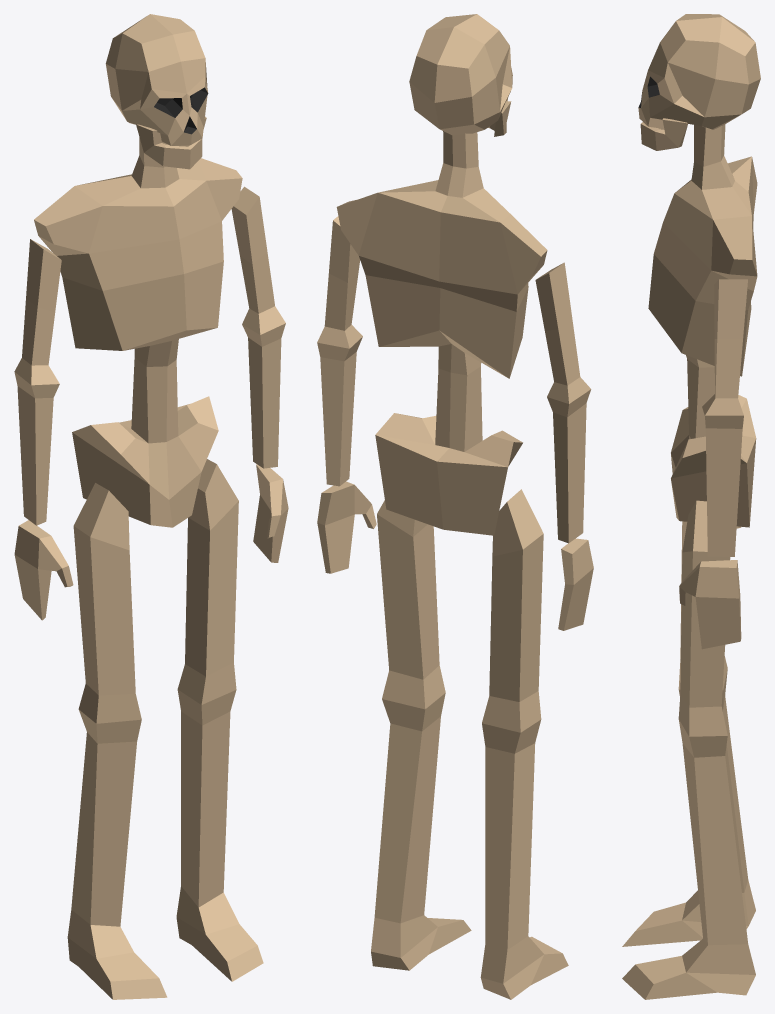
Rendered from skeleton.glb.
3 views of the same model, side by side, from view 1: azimuth 30°, elevation 25°; view 2: azimuth 150°, elevation 25°; view 3: azimuth 270°, elevation 25° (orthographic).
Visible parts, largest first — view 1: skeleton; view 2: skeleton; view 3: skeleton.
Boxes of the visible parts, x1=… form: skeleton: x1=14, y1=14, x2=288, y2=999; skeleton: x1=317, y1=14, x2=593, y2=999; skeleton: x1=622, y1=14, x2=760, y2=999.
Bounding box in the file's own units: 0.5124 × 1.81 × 0.2405.
Materials: 1 (1 with a texture image).
